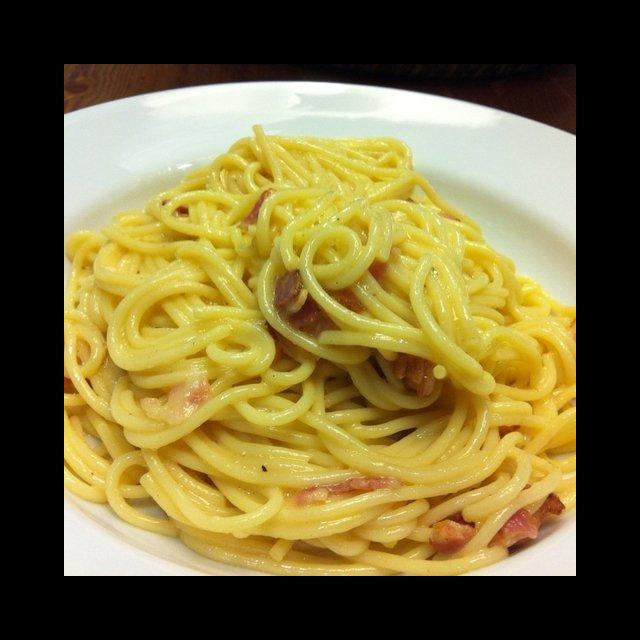noodles: (64, 122, 576, 576)
